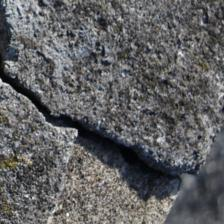Crack: (4, 37, 182, 145)
